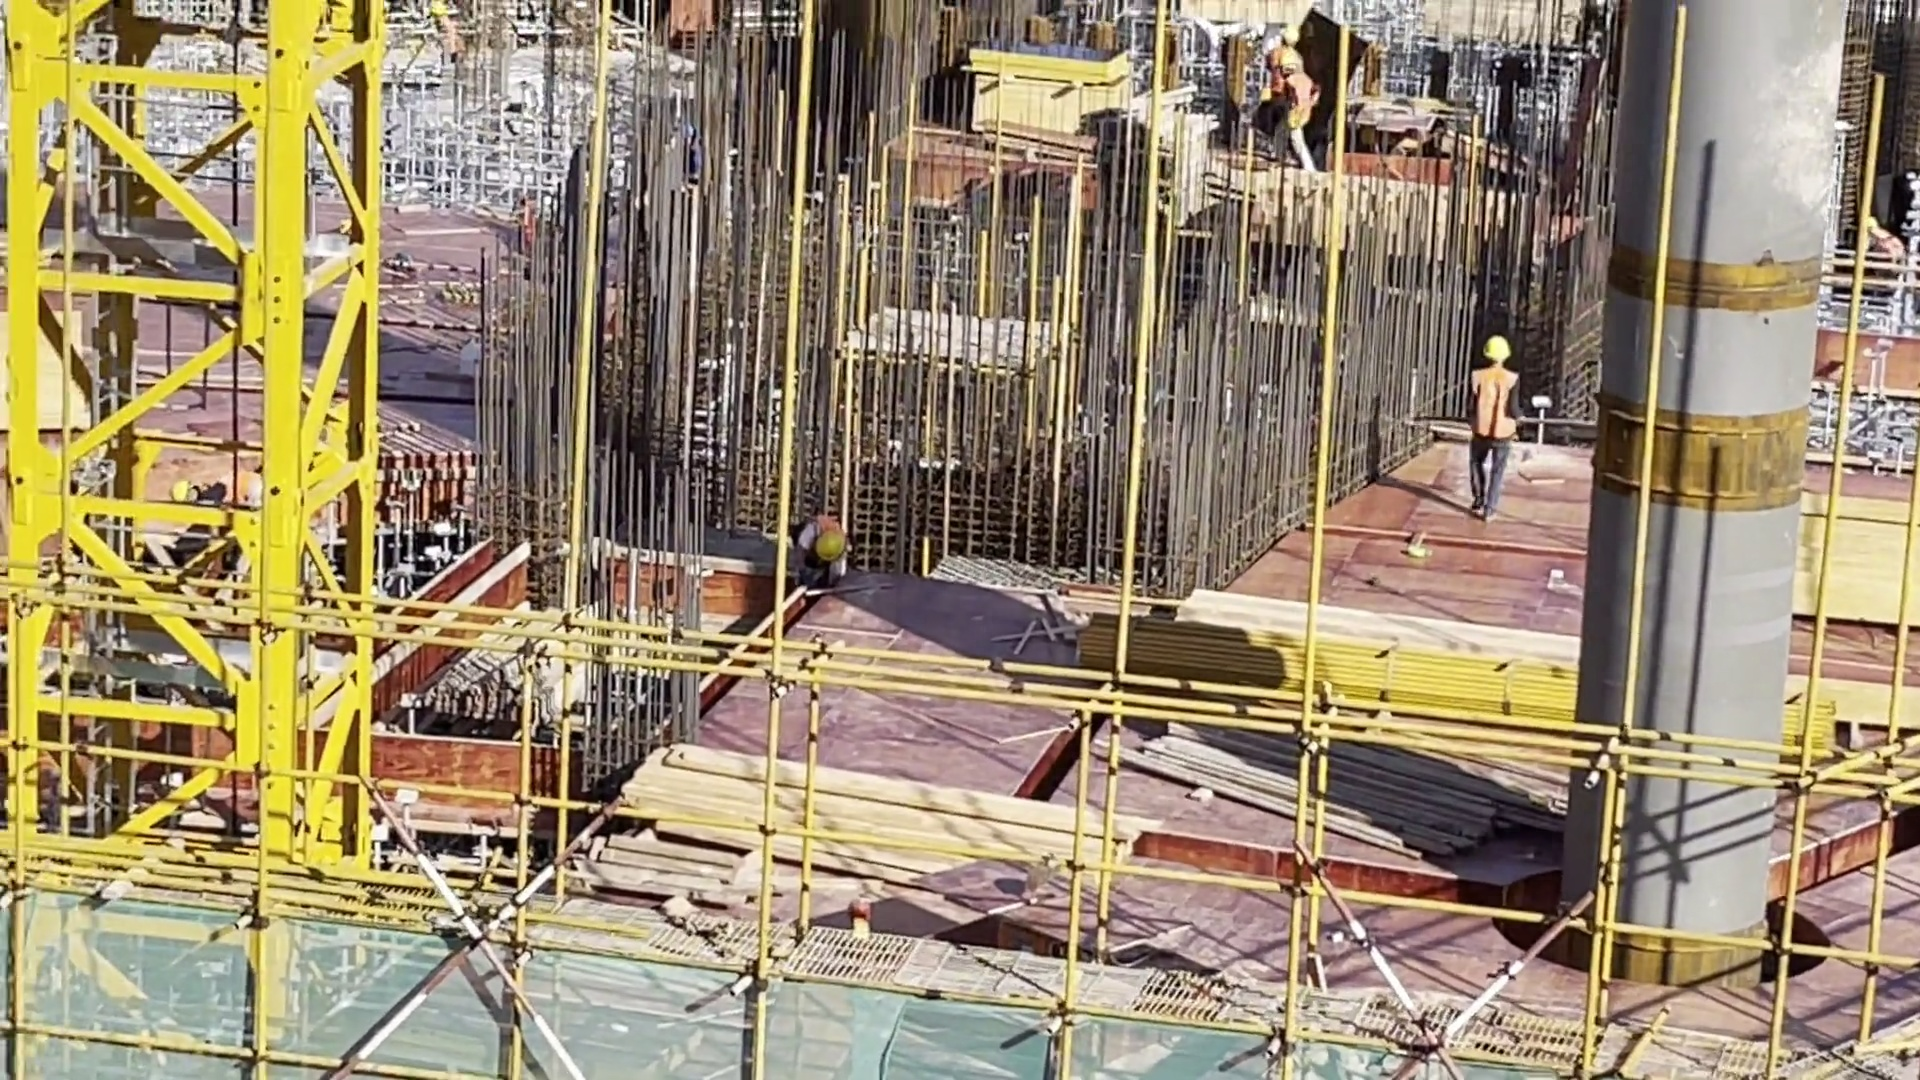board: (1794, 472, 1920, 645), (962, 38, 1136, 88)
helmet: (1479, 331, 1513, 377), (814, 526, 849, 559), (169, 473, 195, 509), (1273, 49, 1304, 77)
person: (1462, 329, 1527, 523), (786, 505, 862, 594), (1268, 44, 1320, 168), (170, 469, 275, 522), (1862, 213, 1911, 305)
vest: (1476, 367, 1525, 446), (1282, 73, 1318, 138)
wood: (622, 732, 1127, 907)
